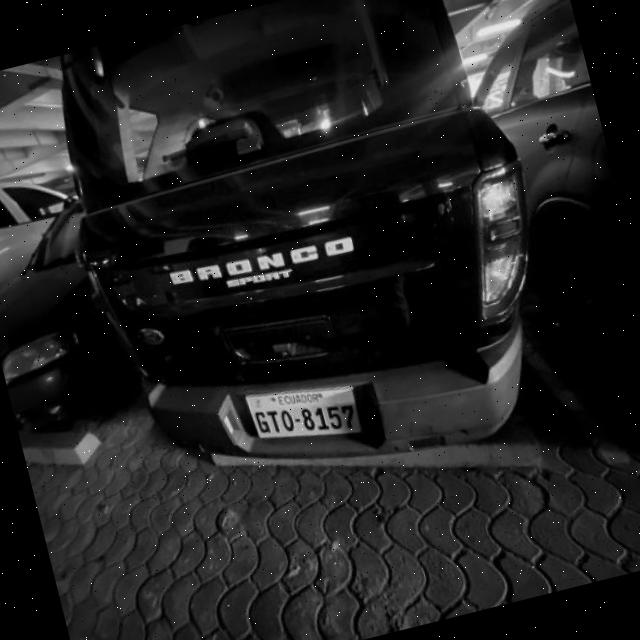Placa: (247, 387, 360, 436)
